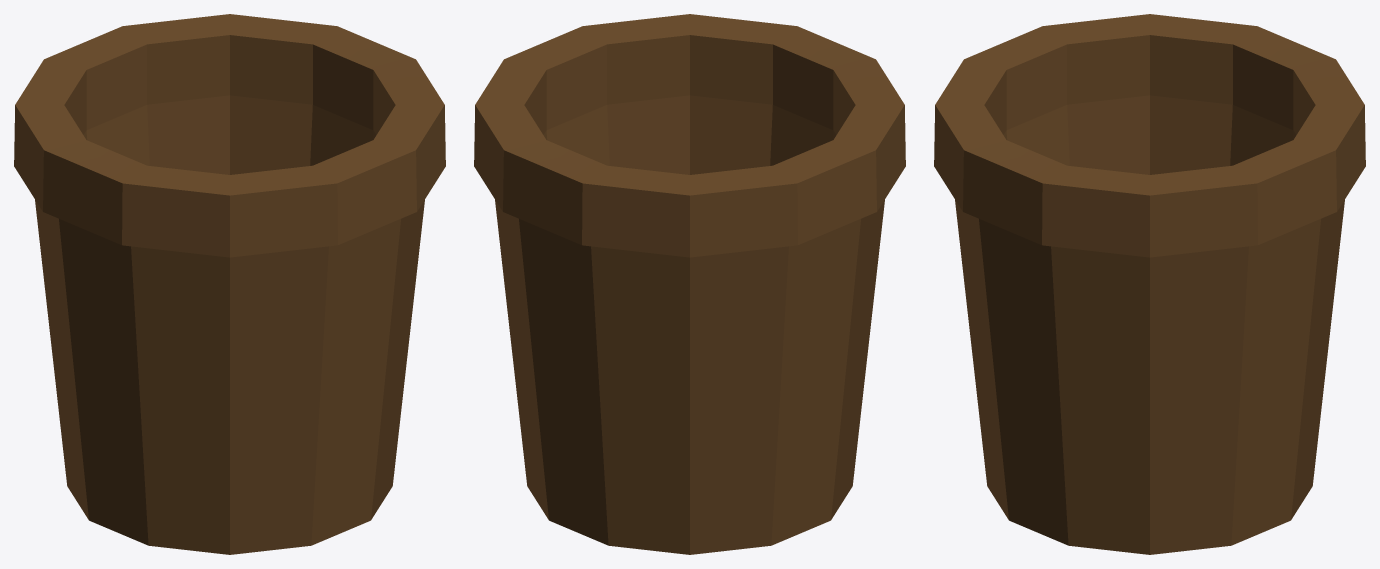
The model's file is Stupa(1).fbx.
3 renders of one model, left to right at view 1: azimuth 30°, elevation 25°; view 2: azimuth 150°, elevation 25°; view 3: azimuth 270°, elevation 25°, orthographic.
Parts seen in each view (by area): view 1: pCylinder1; view 2: pCylinder1; view 3: pCylinder1.
Boxes of the visible parts, x1=… form: pCylinder1: x1=14, y1=14, x2=445, y2=554; pCylinder1: x1=474, y1=14, x2=905, y2=554; pCylinder1: x1=934, y1=14, x2=1365, y2=554.
Bounding box in the file's own units: 2.61 × 2.54 × 2.61.
